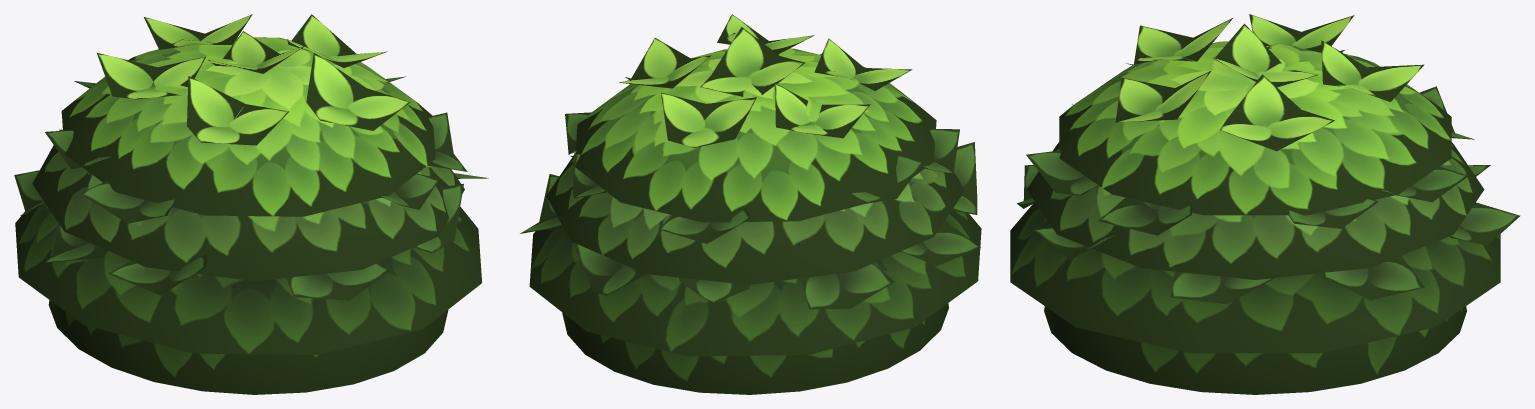
Rendered from Stylized_Bush.glb.
3 views of the same model, side by side, from view 1: azimuth 30°, elevation 25°; view 2: azimuth 150°, elevation 25°; view 3: azimuth 270°, elevation 25° (orthographic). The views are drawn at different scales.
Visible parts, largest first — view 1: stylized bush_stylized bush_0; view 2: stylized bush_stylized bush_0; view 3: stylized bush_stylized bush_0.
Part boxes in pixels (box(x1,y1,x2,y2)): stylized bush_stylized bush_0: box(14, 14, 488, 394); stylized bush_stylized bush_0: box(520, 14, 981, 394); stylized bush_stylized bush_0: box(1010, 14, 1520, 394).
Size of the model in its own units: 1.51 by 0.9624 by 1.58.
1 material, 1 textured.
